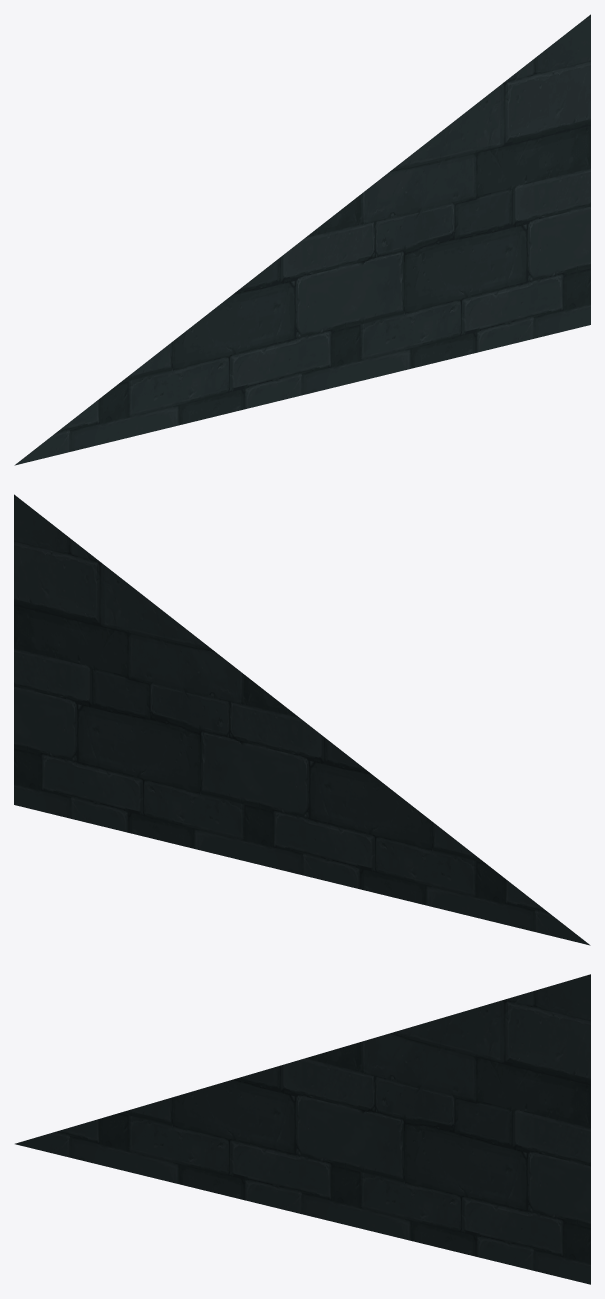
File: cs_zhucheng_chengqiang_002.FBX
3 views of the same model, one above another, from view 1: azimuth 30°, elevation 25°; view 2: azimuth 150°, elevation 25°; view 3: azimuth 330°, elevation 25° (orthographic).
Visible parts, largest first — view 1: cs_zhucheng_chengqiang_002; view 2: cs_zhucheng_chengqiang_002; view 3: cs_zhucheng_chengqiang_002.
Boxes of the visible parts, bbox=[...] form: cs_zhucheng_chengqiang_002: bbox=[14, 14, 590, 465]; cs_zhucheng_chengqiang_002: bbox=[14, 494, 590, 945]; cs_zhucheng_chengqiang_002: bbox=[15, 974, 590, 1284].
Bounding box in the file's own units: 295 × 0 × 152.
